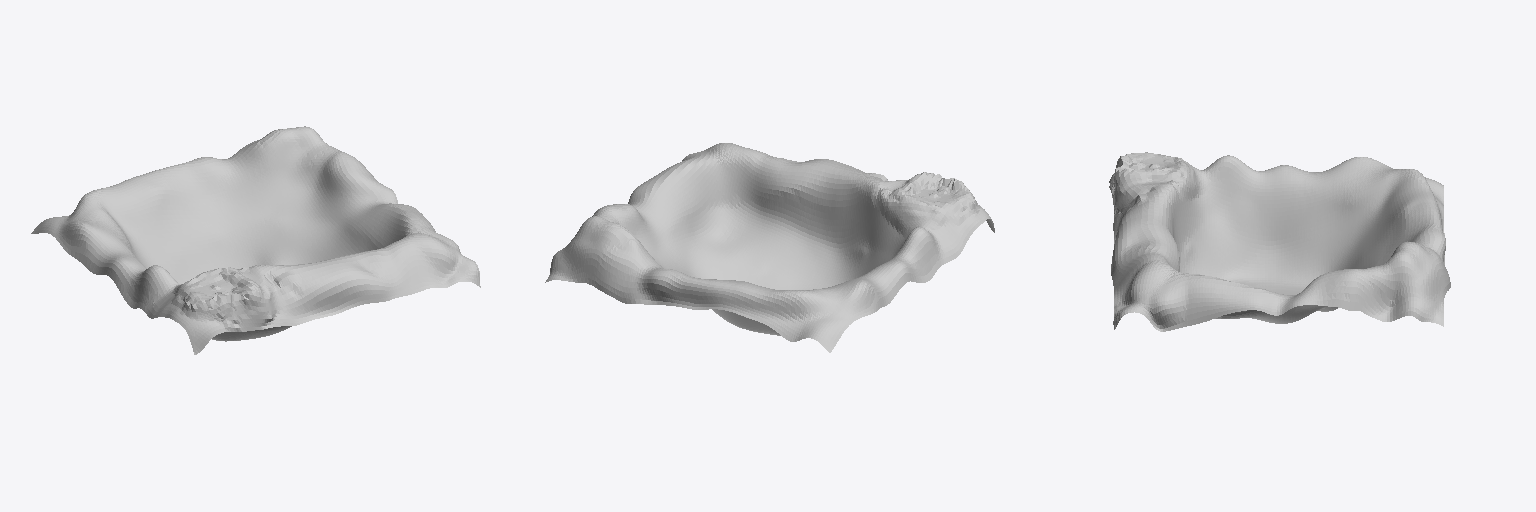
Rendered from lake.obj.
3 renders of one model, left to right at view 1: azimuth 30°, elevation 25°; view 2: azimuth 150°, elevation 25°; view 3: azimuth 270°, elevation 25°, orthographic.
Visible parts, largest first — view 1: Plane; view 2: Plane; view 3: Plane.
Part boxes in pixels (left/top/right/bottom): Plane: left=31, top=126, right=480, bottom=354; Plane: left=545, top=143, right=994, bottom=352; Plane: left=1109, top=152, right=1450, bottom=331.
Bounding box in the file's own units: 12.48 × 4.56 × 12.46.